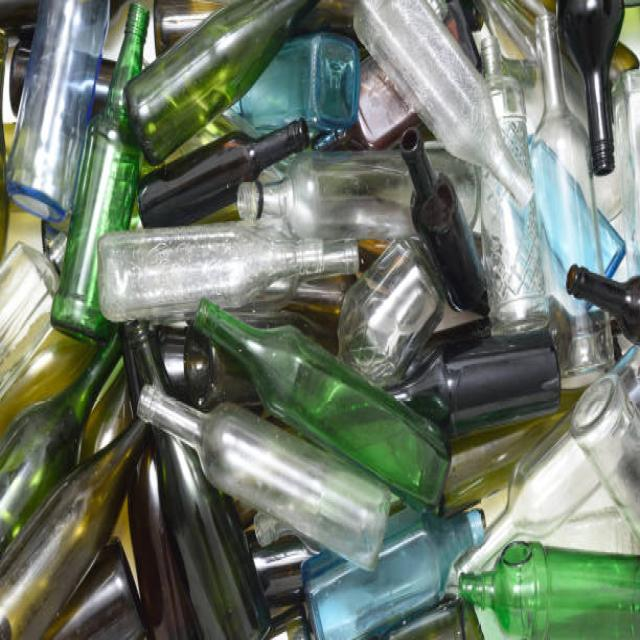glass: (23, 35, 612, 632)
